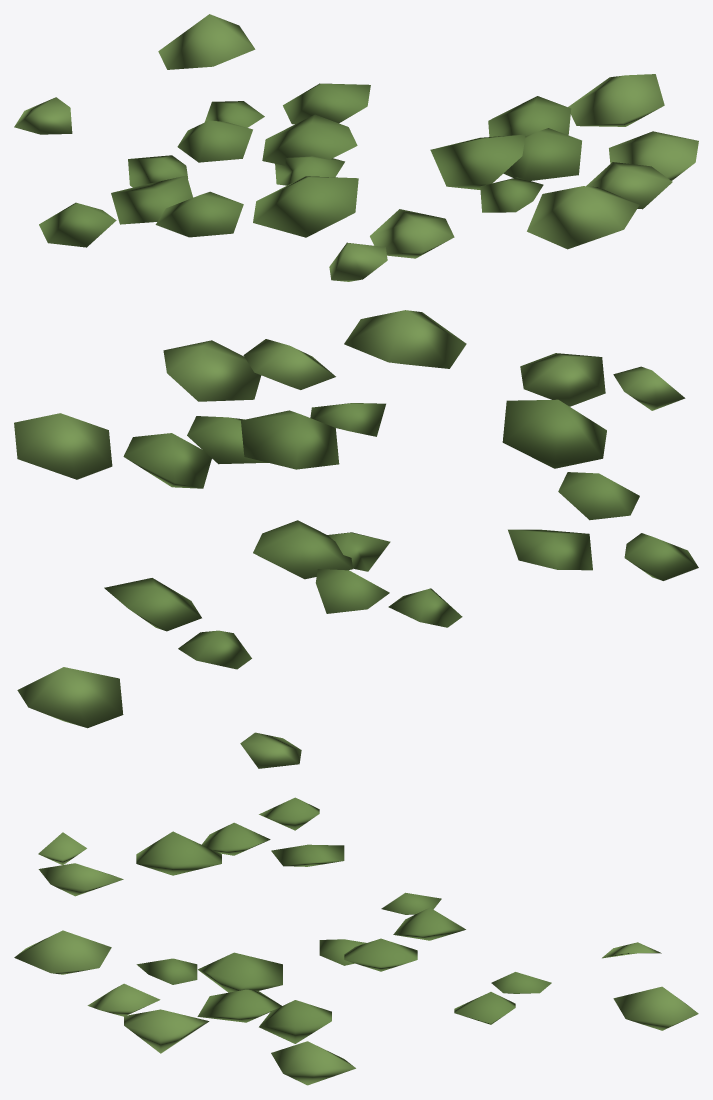
Rendered from canopy-2--1-9.glb.
The picture shows the model from 3 angles, top to bottom: view 1: azimuth 30°, elevation 25°; view 2: azimuth 150°, elevation 25°; view 3: azimuth 270°, elevation 25°; orthographic projection. The views are drawn at different scales.
Bounding box in the file's own units: 128 × 27.5 × 140.
1 material, 1 textured.
